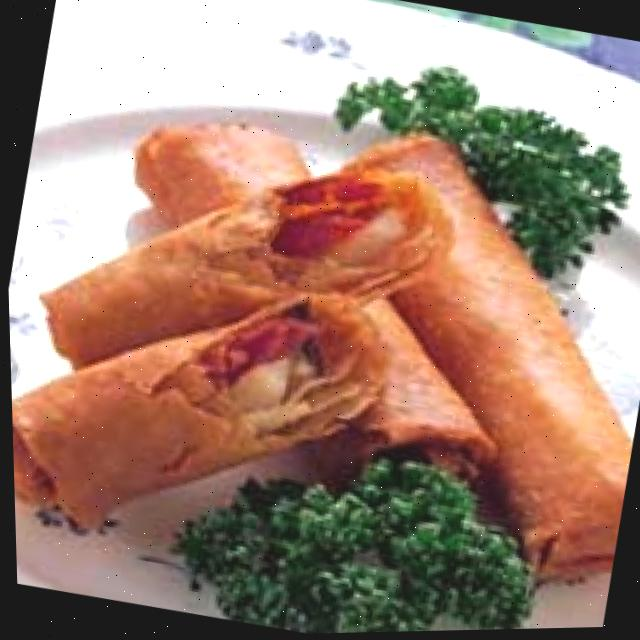鸡蛋料理: (1, 39, 640, 633)
